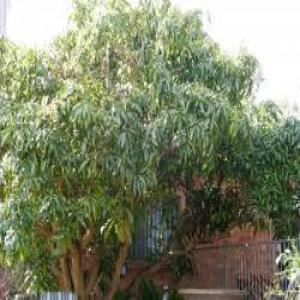Tree: (6, 3, 263, 298)
